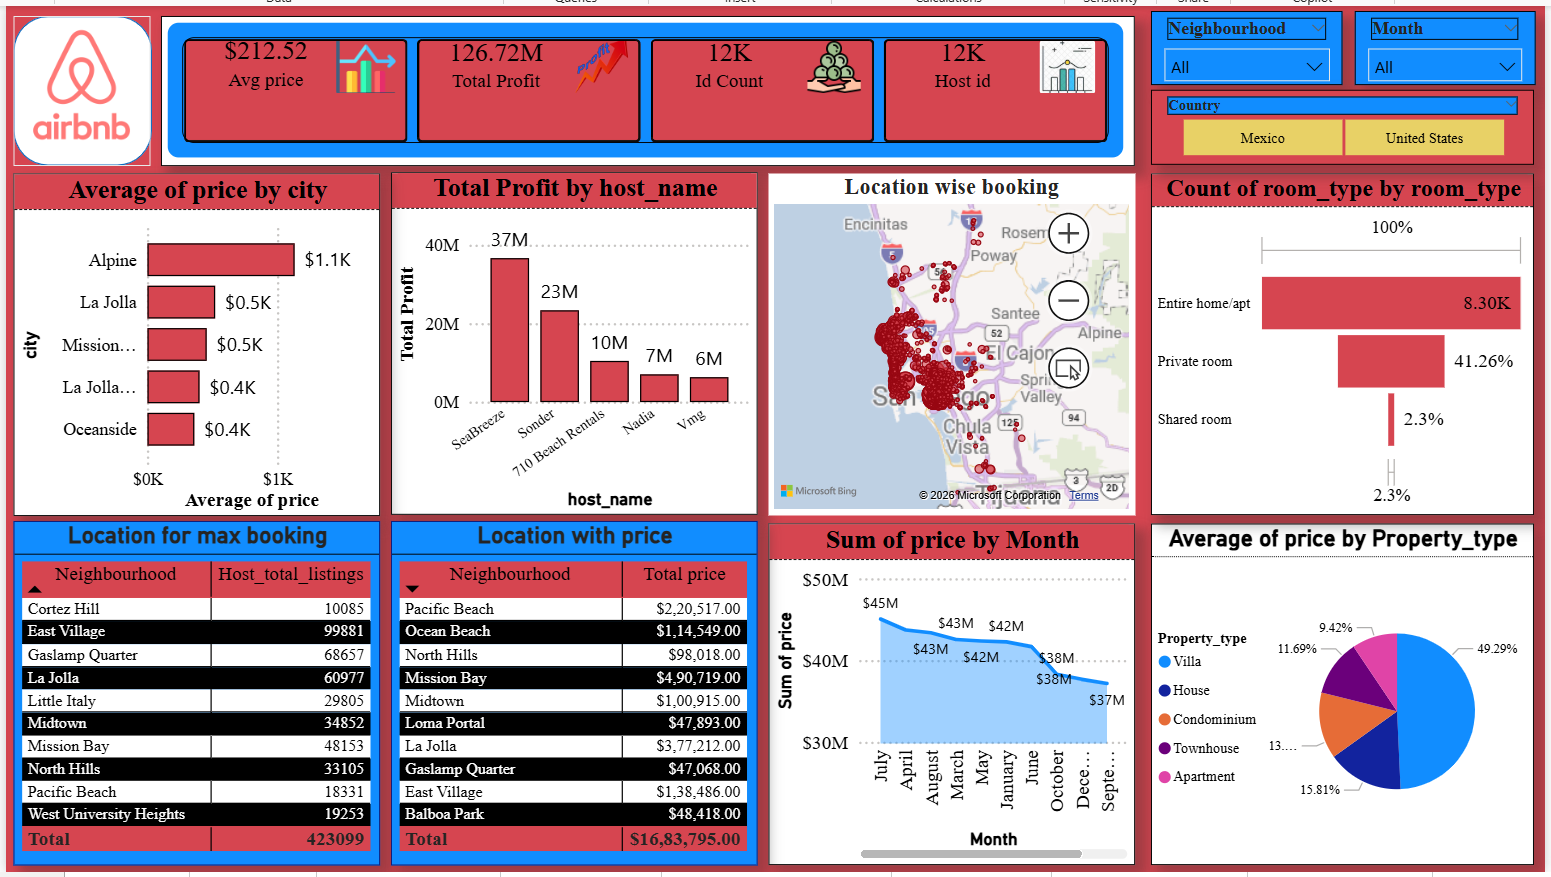

The page's visual inventory and layout, read from the dashboard file:
{"tool":"powerbi","page":{"name":"Dashboard","canvas":[1280,720],"ordinal":0},"visuals":[{"type":"shape","box":[5.8,8.1,115.1,124.4],"z":0},{"type":"image","box":[12.8,8.1,101.2,115.1],"z":1000},{"type":"cardVisual","fields":{"Data":["Avg(listings.price)","listings.Total Profit","CountNonNull(listings.id)","CountNonNull(listings.host_id)"]},"box":[129.1,8.1,809.3,124.4],"z":2000},{"type":"clusteredColumnChart","fields":{"Category":["listings.host_name"],"Y":["listings.Total Profit"]},"box":[319.8,138.4,304.7,284.9],"z":3000},{"type":"clusteredBarChart","fields":{"Y":["Avg(listings.price)"],"Category":["listings.city"]},"box":[5.8,139.5,304.7,284.9],"z":4000},{"type":"map","title":"Location wise booking","fields":{"Size":["Sum(listings.host_listings_count)"],"Y":["listings.latitude"],"X":["listings.longitude"]},"box":[633.7,139.5,304.7,283.7],"z":5000},{"type":"tableEx","title":"Location for max booking","fields":{"Values":["listings.neighbourhood_cleansed","Sum(listings.host_total_listings_count)"]},"box":[5.8,427.9,304.7,286],"z":6000},{"type":"lineChart","fields":{"Category":["calender.Month"],"Y":["Sum(calender.price)"]},"box":[633.7,430.2,304.7,283.7],"z":7000},{"type":"pieChart","fields":{"Category":["listings.property_type"],"Y":["Avg(listings.price)"]},"box":[952.3,430.2,318.6,283.7],"z":8000},{"type":"funnel","fields":{"Category":["listings.room_type"],"Y":["CountNonNull(listings.room_type)"]},"box":[952.3,139.5,318.6,283.7],"z":9000},{"type":"slicer","fields":{"Values":["listings.neighbourhood"]},"box":[952.3,4.7,159.3,61.6],"z":10000},{"type":"slicer","fields":{"Values":["calender.Month"]},"box":[1120.9,4.7,150,61.6],"z":11000},{"type":"tableEx","title":"Location with price","fields":{"Values":["listings.neighbourhood_cleansed","Sum(listings.price)"]},"box":[319.8,427.9,304.7,286],"z":12000},{"type":"slicer","fields":{"Values":["listings.country"]},"box":[952.3,69.8,318.6,62.8],"z":13000}]}

Visuals, with their boxes on the page's 1280x720 design canvas (x1, y1, x2, y2). These are canvas units, not pixel positions in the 1551x877 screenshot, which may show the page scaled, cropped or inside an application window:
shape: (6,8,121,132)
image: (13,8,114,123)
cardVisual - Avg(listings.price) x listings.Total Profit: (129,8,938,132)
clusteredColumnChart - listings.host_name x listings.Total Profit: (320,138,624,423)
clusteredBarChart - Avg(listings.price) x listings.city: (6,140,310,424)
"Location wise booking" map: (634,140,938,423)
"Location for max booking" tableEx: (6,428,310,714)
lineChart - calender.Month x Sum(calender.price): (634,430,938,714)
pieChart - listings.property_type x Avg(listings.price): (952,430,1271,714)
funnel - listings.room_type x CountNonNull(listings.room_type): (952,140,1271,423)
slicer - listings.neighbourhood: (952,5,1112,66)
slicer - calender.Month: (1121,5,1271,66)
"Location with price" tableEx: (320,428,624,714)
slicer - listings.country: (952,70,1271,133)
